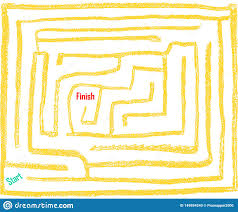maze: (1, 3, 238, 197)
